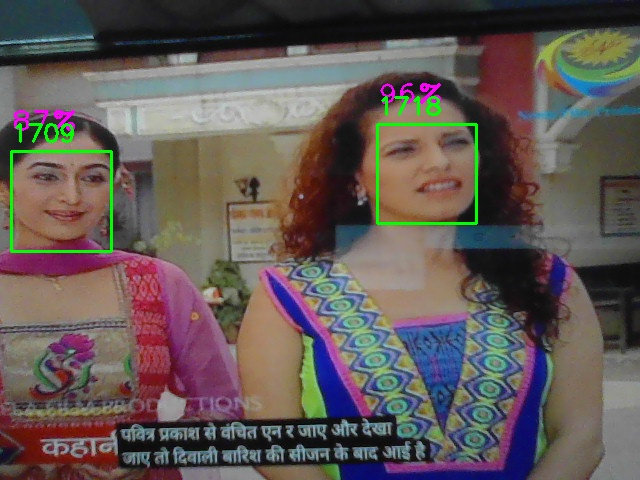fake: (11, 151, 112, 252), (377, 124, 477, 224)
